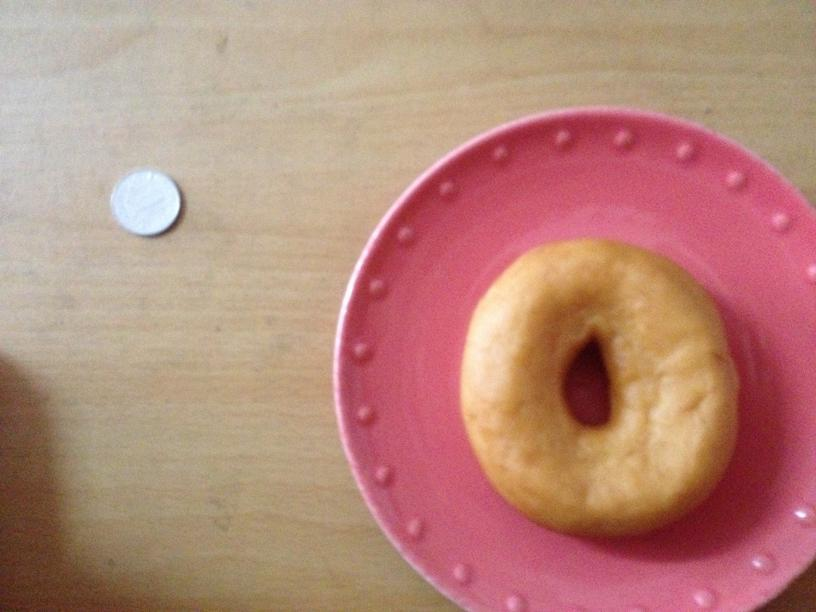coin: (110, 166, 183, 234)
doughnut: (462, 235, 744, 536)
